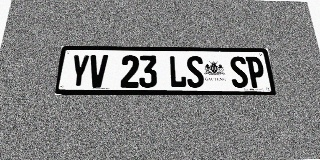2: (121, 55, 139, 88)
3: (139, 55, 157, 88)
L: (169, 56, 187, 88)
P: (245, 56, 266, 88)
S: (229, 56, 249, 88), (186, 56, 205, 88)
V: (88, 55, 108, 88)
Y: (69, 55, 90, 88)
